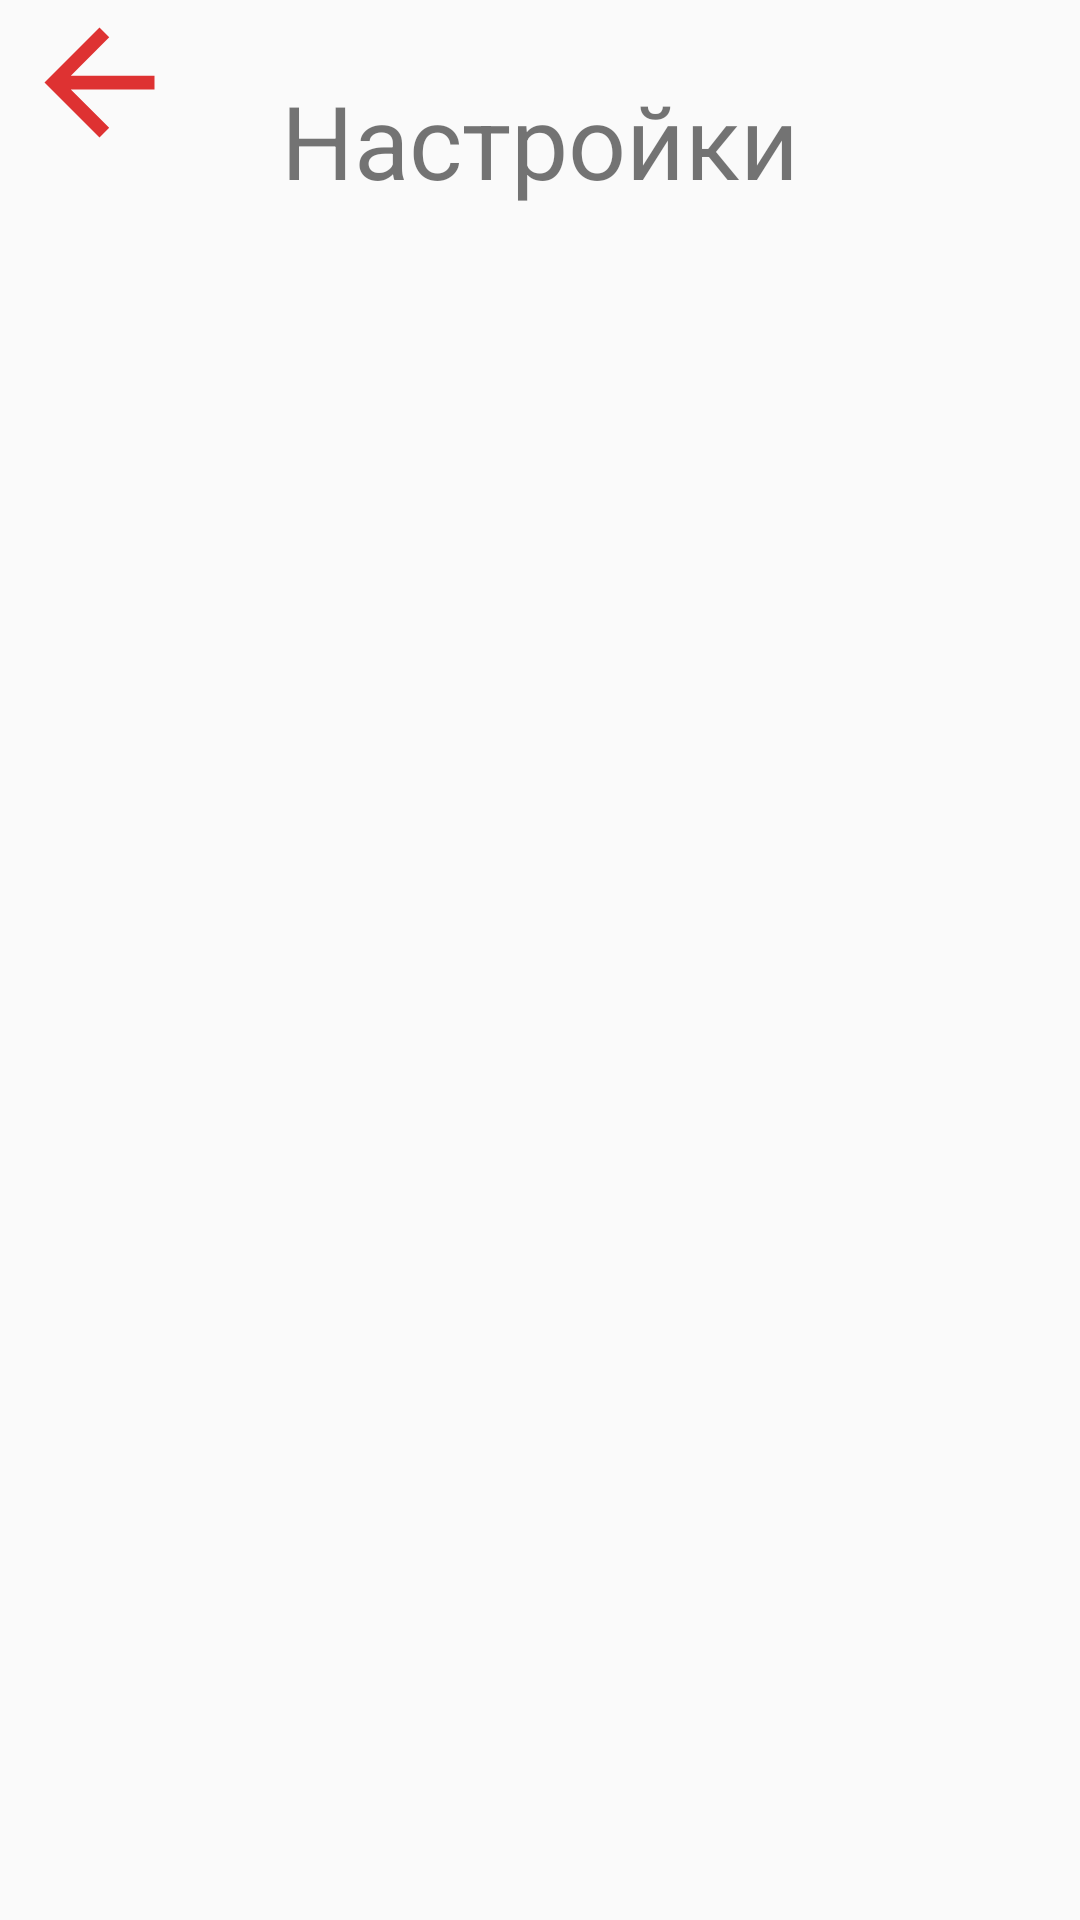

Icon bounding boxes for this 1080 × 1920 phone screenshot, format (x1, y1, x2, y2):
arrow back: (44, 27, 155, 138)
